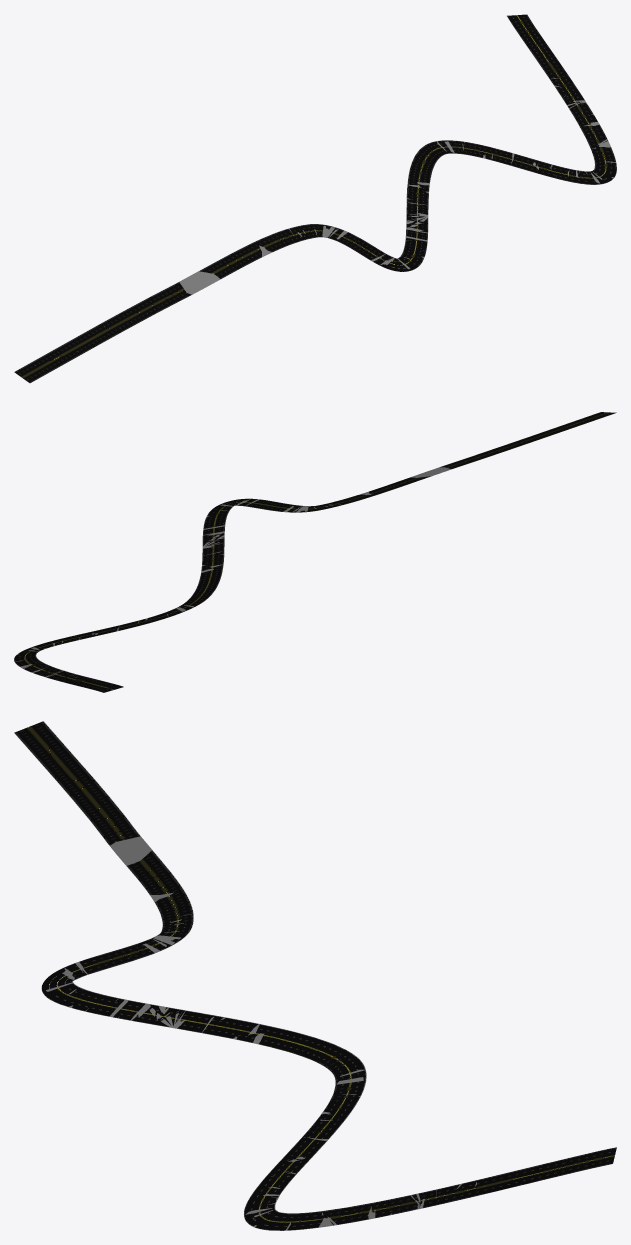
Rendered from realistic_road.glb.
3 renders of one model, top to bottom at view 1: azimuth 30°, elevation 25°; view 2: azimuth 210°, elevation 25°; view 3: azimuth 270°, elevation 25°, orthographic. The views are drawn at different scales.
Parts seen in each view (by area): view 1: Markers0_WhiteYellowDouble_4L_0, RoadCut0_Road1_0; view 2: Markers0_WhiteYellowDouble_4L_0, RoadCut0_Road1_0; view 3: Markers0_WhiteYellowDouble_4L_0, RoadCut0_Road1_0.
Part boxes in pixels (x1=…): Markers0_WhiteYellowDouble_4L_0: x1=14, y1=14, x2=616, y2=383; RoadCut0_Road1_0: x1=108, y1=78, x2=616, y2=339; Markers0_WhiteYellowDouble_4L_0: x1=14, y1=412, x2=616, y2=692; RoadCut0_Road1_0: x1=15, y1=467, x2=451, y2=677; Markers0_WhiteYellowDouble_4L_0: x1=14, y1=721, x2=616, y2=1230; RoadCut0_Road1_0: x1=46, y1=789, x2=476, y2=1230.
Bounding box in the file's own units: 729 × 63.97 × 373.
Materials: 2 (2 with a texture image).
